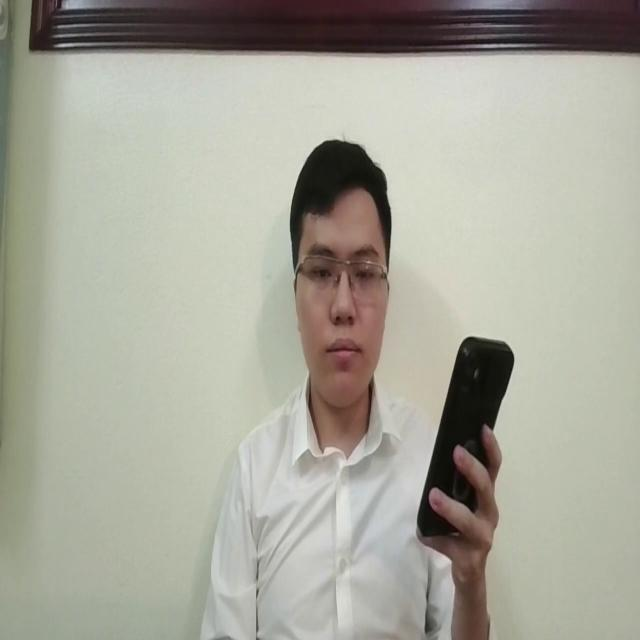phone: (414, 334, 515, 542)
student: (201, 135, 504, 640)
